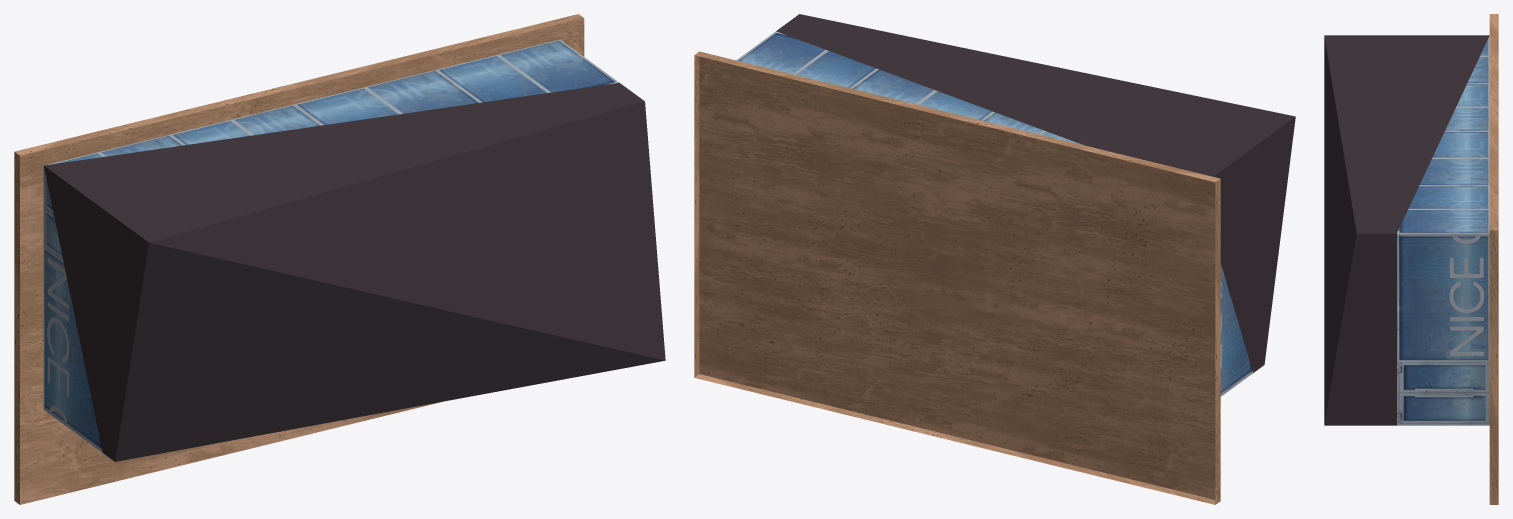
File: YDH_03.gltf
3 views of the same model, side by side, from view 1: azimuth 30°, elevation 25°; view 2: azimuth 150°, elevation 25°; view 3: azimuth 270°, elevation 25° (orthographic). The views are drawn at different scales.
Size of the model in its own units: 22.07 by 13.05 by 7.51.
Materials: 4 (4 with a texture image).
